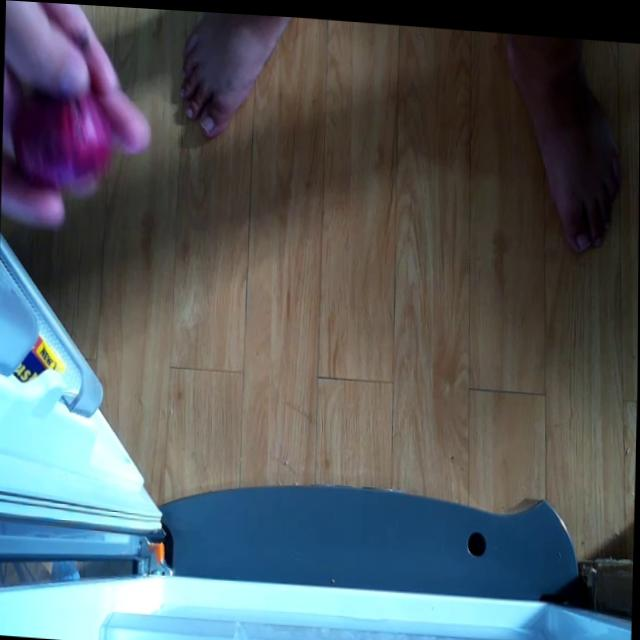onion: (9, 31, 109, 200)
